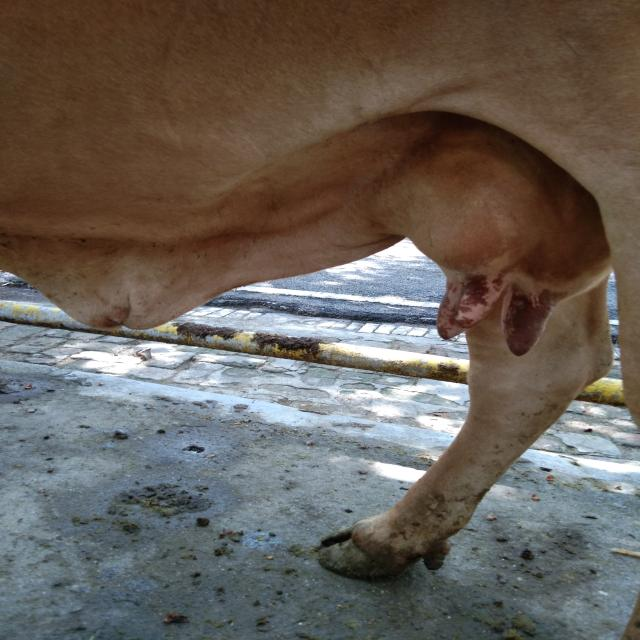Hoof: (317, 515, 450, 580)
